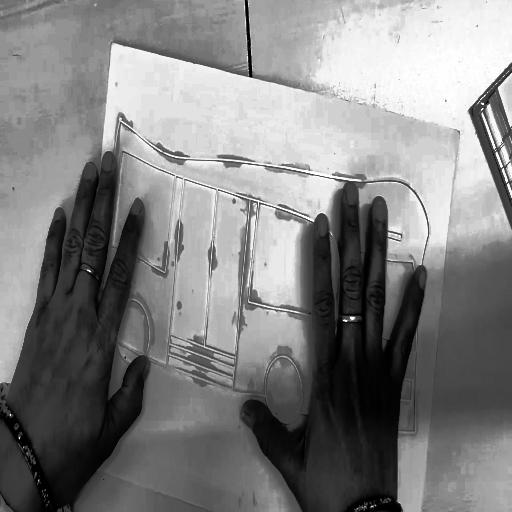bottom_left: (70, 450, 83, 471)
bus: (69, 104, 465, 482)
top_left: (109, 37, 115, 50)
top_right: (455, 126, 462, 142)
